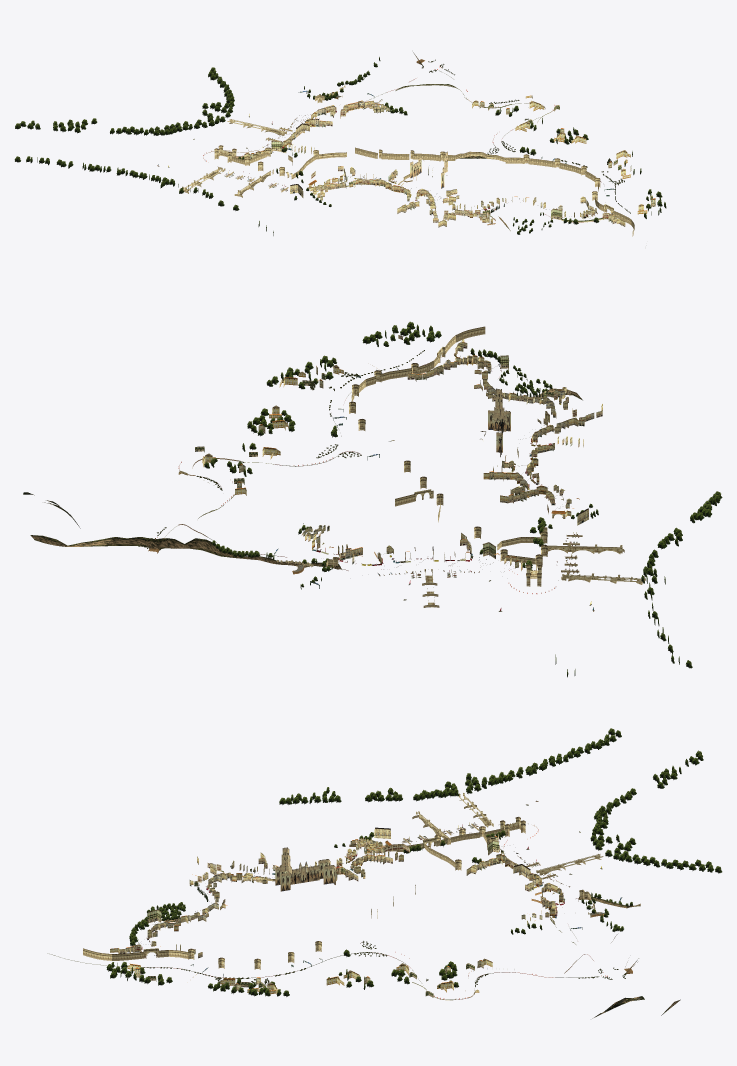
Rendered from track-EU_C4_V2.glb.
3 renders of one model, top to bottom at view 1: azimuth 30°, elevation 25°; view 2: azimuth 150°, elevation 25°; view 3: azimuth 270°, elevation 25°, orthographic. The views are drawn at different scales.
Parts seen in each view (by area): view 1: EU_C4_V2; view 2: EU_C4_V2; view 3: EU_C4_V2.
Boxes of the visible parts, x1,y1,x2,y2 form: EU_C4_V2: (14,52,666,236); EU_C4_V2: (23,321,722,677); EU_C4_V2: (47,728,722,1018).
Size of the model in its own units: 2492 by 207 by 2322.
102 materials, 101 textured.
